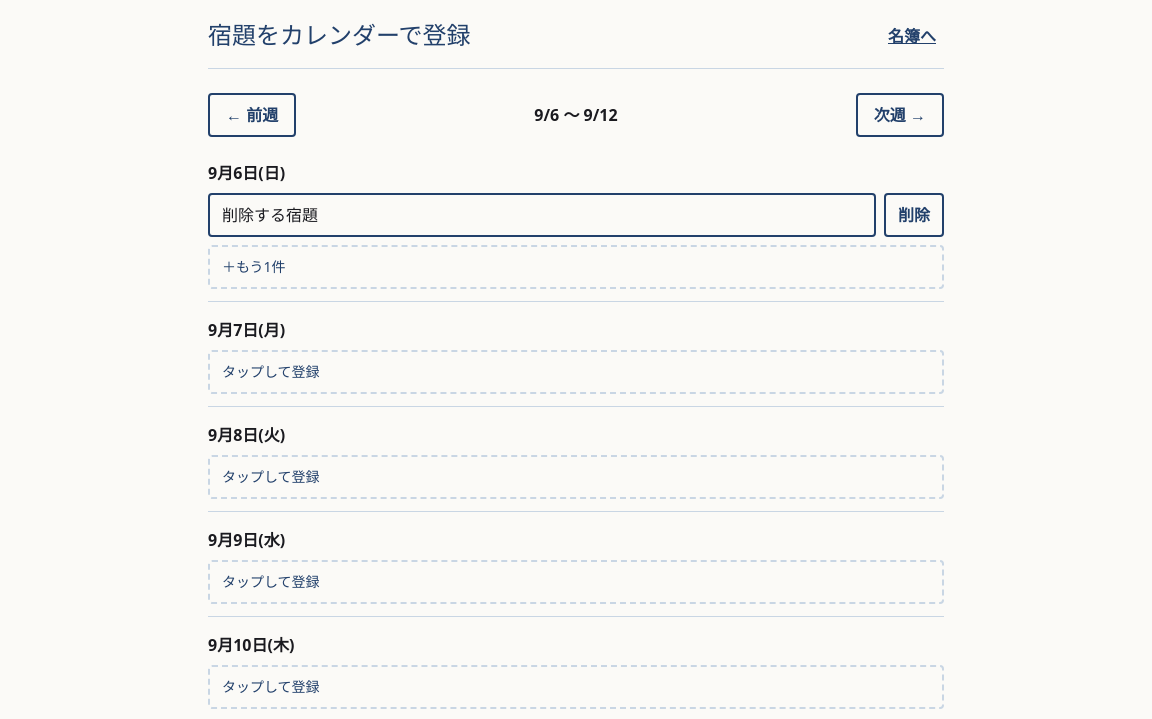
カレンダー画面 › 削除の確認ダイアログを経て項目を削除できる
Expected: the button "削除する宿題" is shown, [208,193,876,237]
Click the button with aria-label "削除する宿題を削除" at (914, 215), box [884,193,944,237]
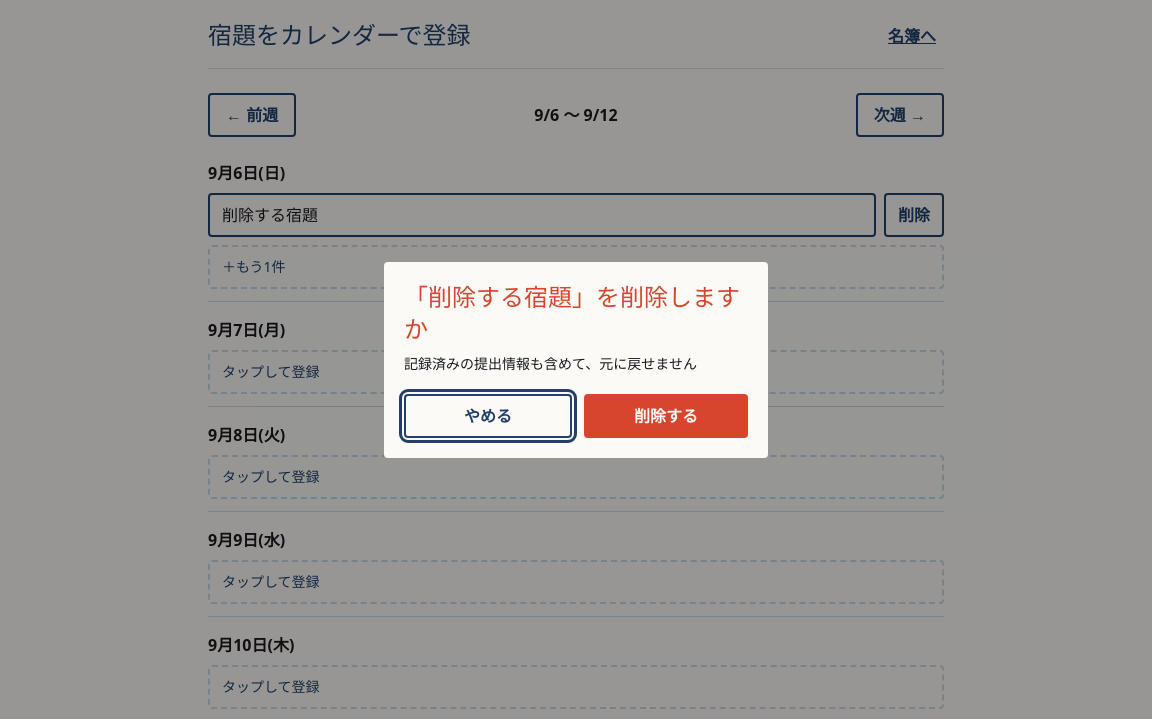
Click the button "削除する" at (666, 416), box [584,394,748,438]
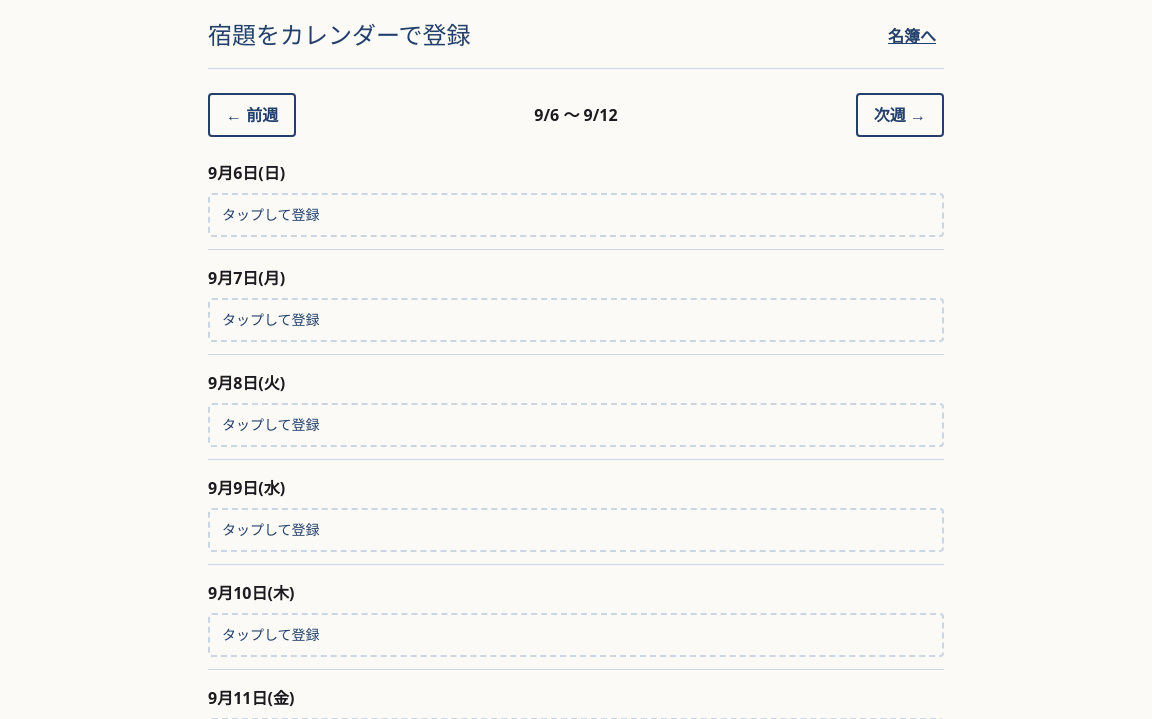
Expected: the button "削除する宿題" is gone
